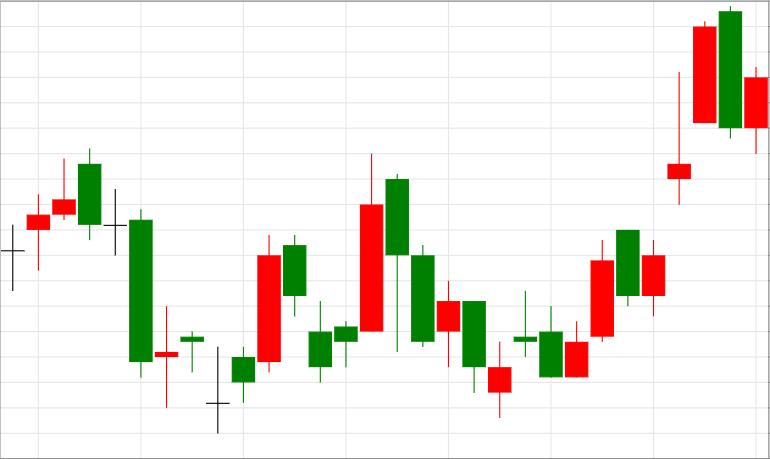bearish_engulfing_fall: (565, 6, 742, 379), (1, 148, 102, 291)
